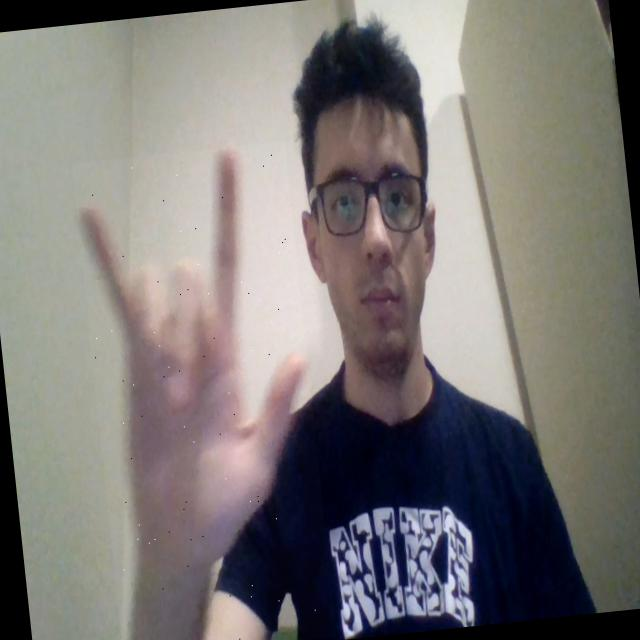iloveyou: (71, 141, 336, 640)
